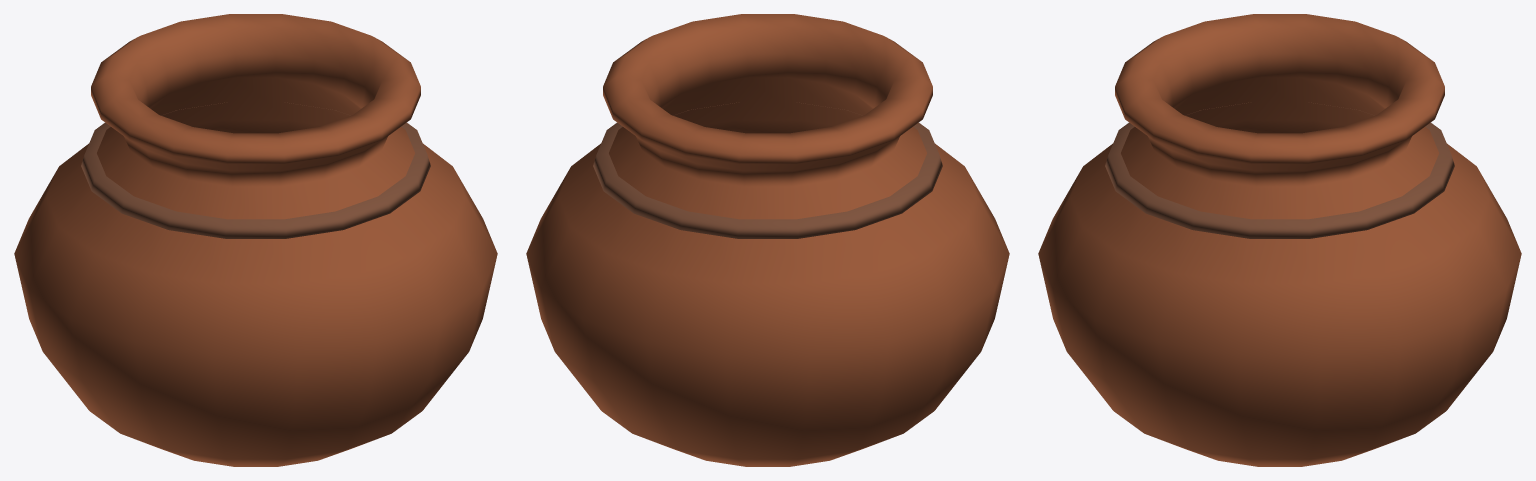
File: jar.glb
The picture shows the model from 3 angles, left to right: view 1: azimuth 30°, elevation 25°; view 2: azimuth 150°, elevation 25°; view 3: azimuth 270°, elevation 25°; orthographic projection.
Visible parts, largest first — view 1: part_0, part_1; view 2: part_0, part_1; view 3: part_0, part_1.
Boxes of the visible parts, box(x1,y1,x2,y2) form: part_0: box(14, 14, 497, 466); part_1: box(81, 102, 430, 238); part_0: box(526, 14, 1009, 466); part_1: box(593, 102, 942, 238); part_0: box(1038, 14, 1521, 466); part_1: box(1105, 102, 1454, 238).
Size of the model in its own units: 0.4252 by 0.3335 by 0.4317.
